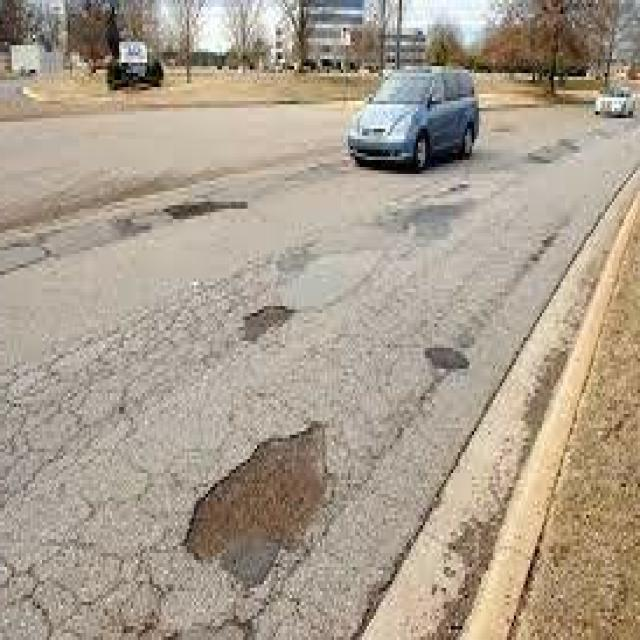pothole: (128, 265, 341, 640), (129, 136, 290, 244), (381, 324, 521, 425)
